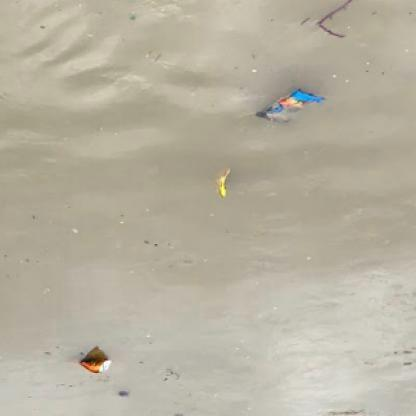Metal: (80, 350, 113, 378)
Trash: (250, 81, 328, 130)
